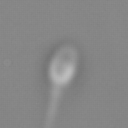normal: (37, 84, 62, 128)
